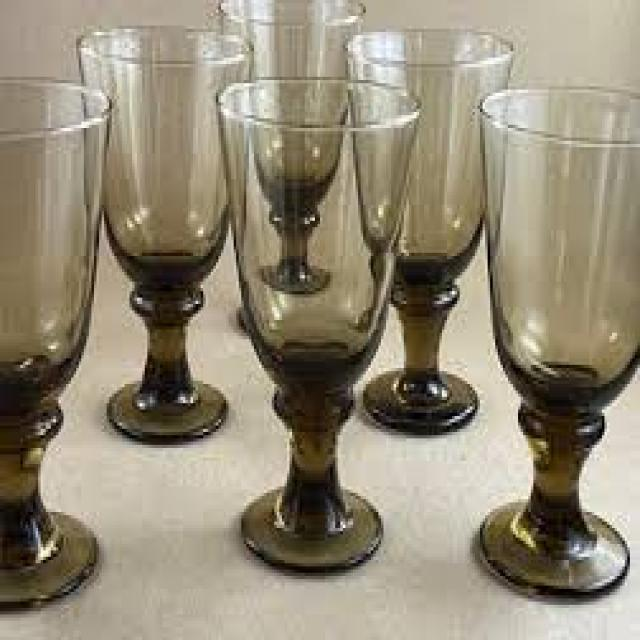glass: (213, 74, 419, 576), (475, 84, 637, 599), (74, 23, 252, 439), (343, 26, 515, 432), (0, 74, 112, 608), (216, 0, 366, 291)
